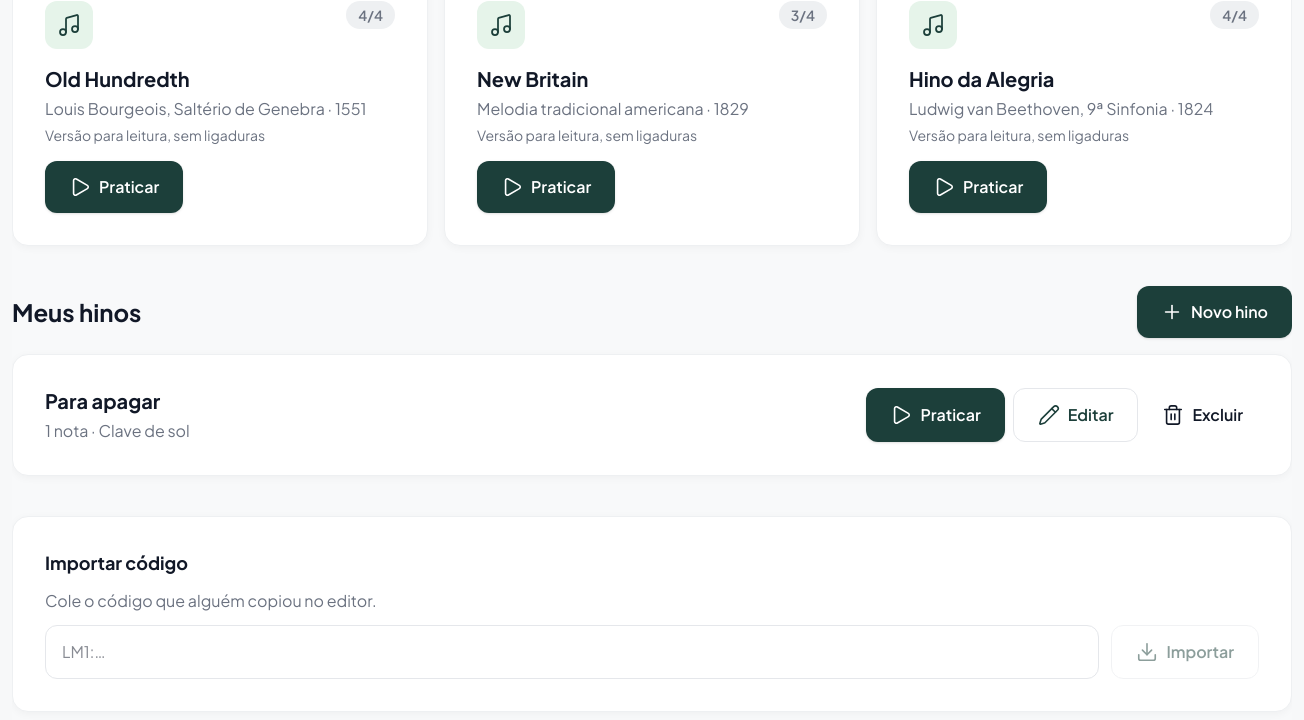
Test case: Hymns › Excluir com confirmação remove o hino
The width and height of the screenshot is (1304, 720).
(page scrolled)
Click the button with aria-label "Excluir Para apagar" at (1203, 415), box [1146,388,1259,442]
(page scrolled)
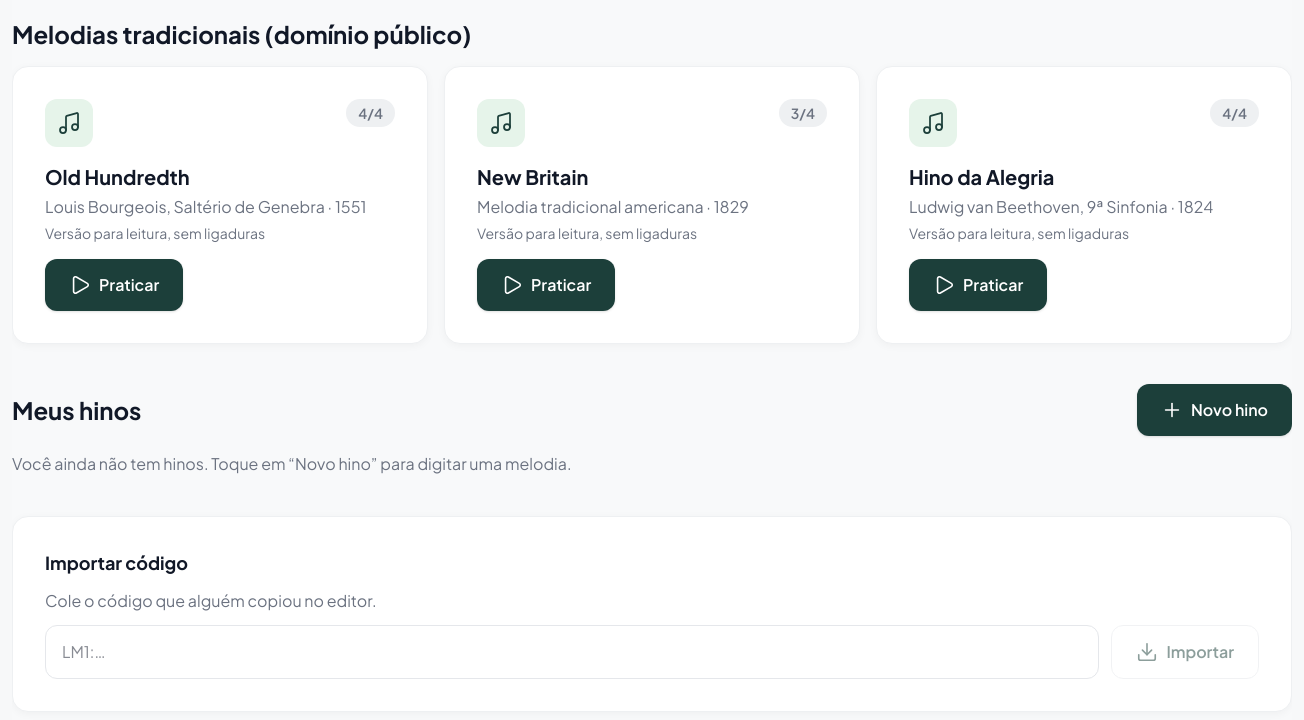
Now the text "Para apagar" is gone
